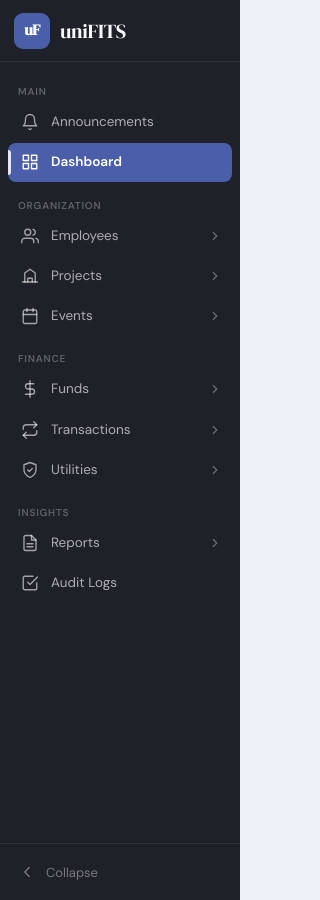
Test: Sidebar interaction › collapsing from expanded closes an open sub-menu
Click the element showing "Employees". click: (122, 236)
box: [21,226,222,245]
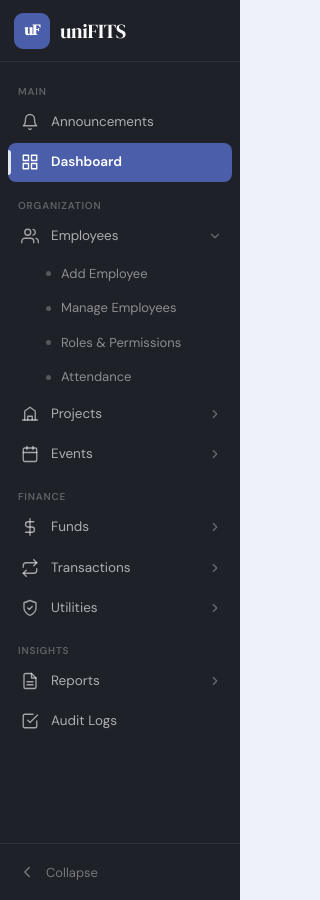
Expected: the text "Add Employee" is shown, [46,265,148,282]
Click the button titled "Collapse sidebar". click: (120, 872)
box: [8,854,232,890]
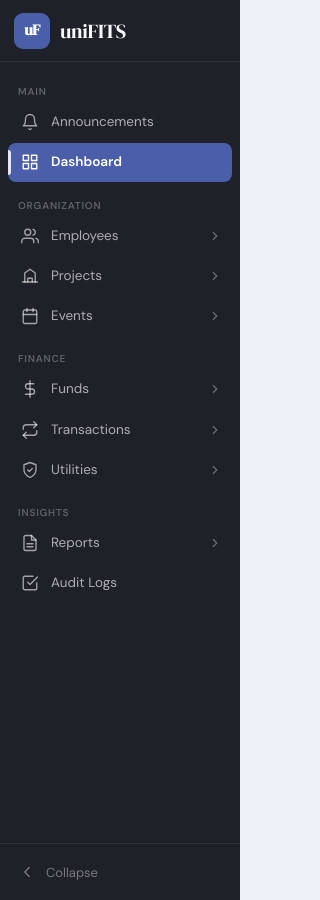
Expected: the text "Add Employee" is gone
